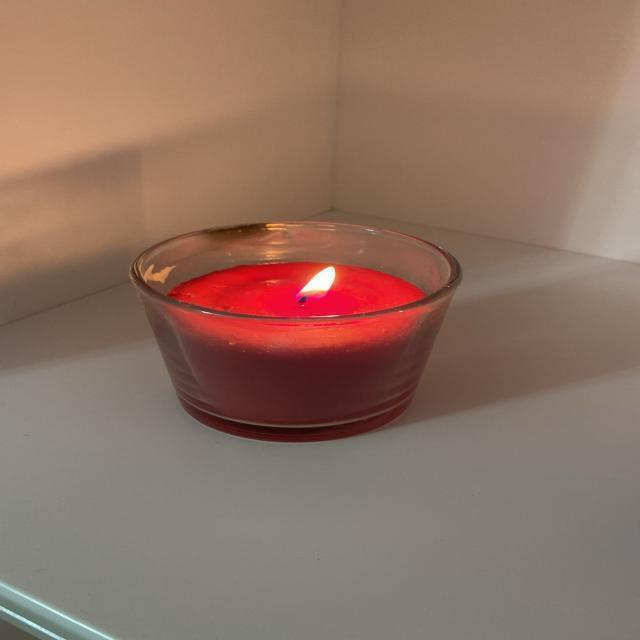fire: (289, 260, 348, 304)
